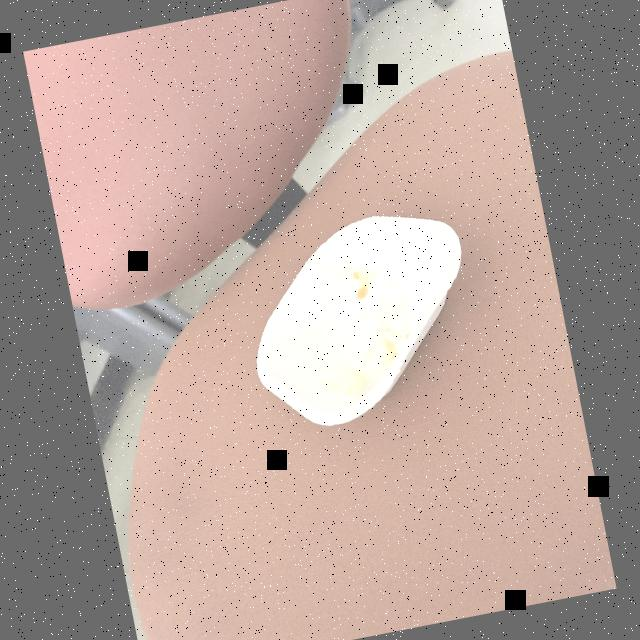cardboard_bowl: (222, 190, 503, 460)
